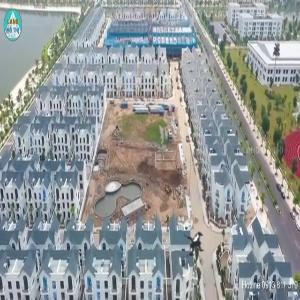drone: (169, 217, 228, 276)
